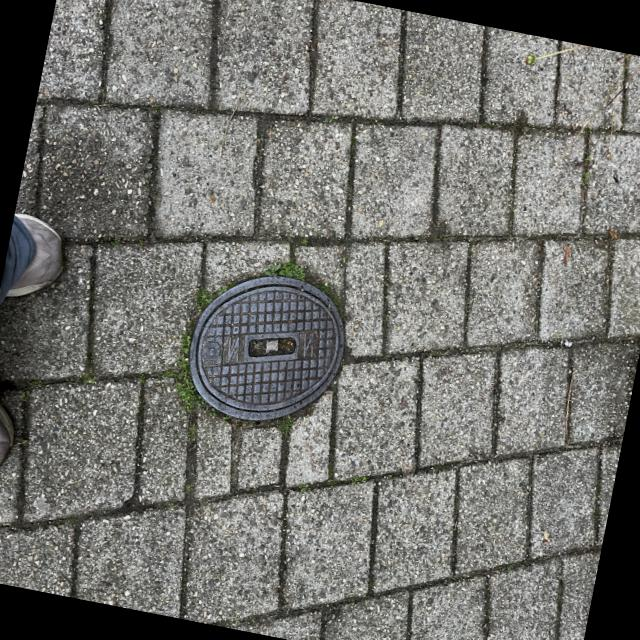pavement: (17, 0, 640, 324), (294, 279, 639, 640), (0, 405, 327, 640)
weedling: (174, 262, 354, 441)
